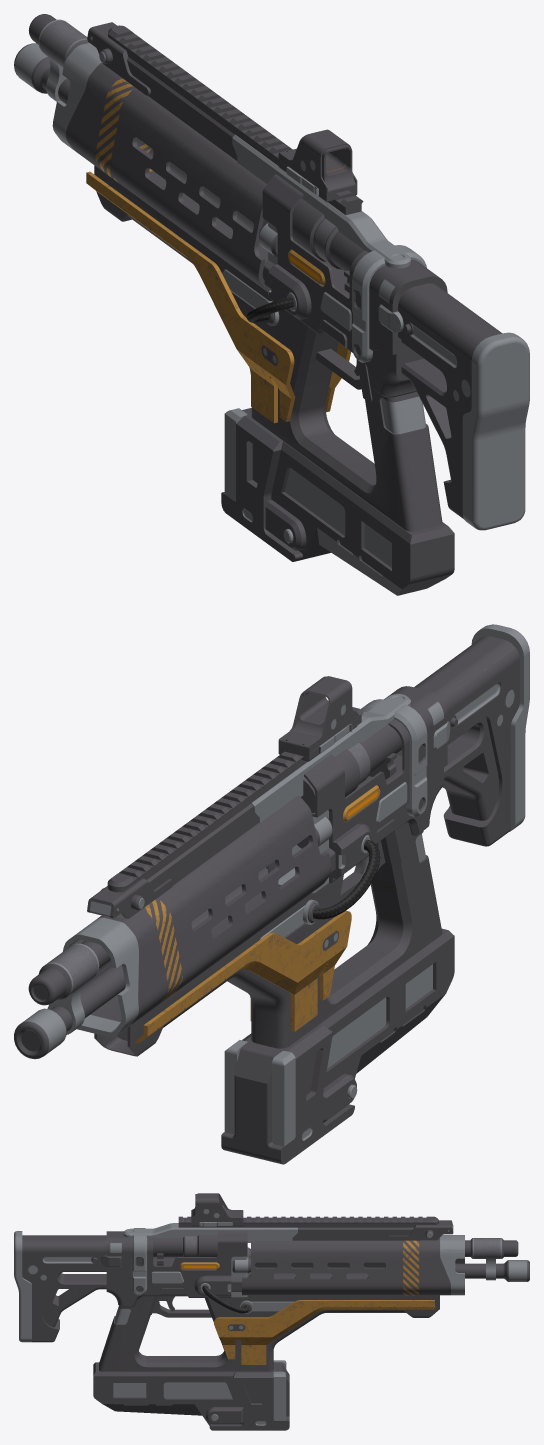
3 views of the same model, one above another, from view 1: azimuth 30°, elevation 25°; view 2: azimuth 150°, elevation 25°; view 3: azimuth 270°, elevation 25° (orthographic). The views are drawn at different scales.
Parts seen in each view (by area): view 1: Solid 29_low_42, Solid 42_low_31, Solid 45_low_33, Solid 40_low_29, Solid 37_low_25, Solid 32_low_45, Solid 13_low_5, Solid 16_low_8, Slice2_low_20, Solid 26_low_17, Slice_low_4, Solid 20_low_13 (+10 smaller); view 2: Solid 42_low_31, Solid 40_low_29, Solid 29_low_42, Solid 45_low_33, Solid 37_low_25, Solid 32_low_45, Solid 41_low_30, Solid 16_low_8, Solid 3_low_19, Slice2_low_20, Solid 13_low_5, Solid 26_low_17 (+12 smaller); view 3: Solid 42_low_31, Solid 40_low_29, Solid 29_low_42, Solid 45_low_33, Solid 37_low_25, Solid 32_low_45, Solid 13_low_5, Slice_low_4, Slice2_low_20, Solid 26_low_17, Solid 41_low_30, Solid 16_low_8 (+14 smaller).
Boxes of the visible parts, box(x1,y1,x2,y2) form: Solid 29_low_42: box(398, 283, 529, 530); Solid 42_low_31: box(66, 63, 271, 292); Solid 45_low_33: box(94, 165, 442, 531); Solid 40_low_29: box(221, 408, 454, 595); Solid 37_low_25: box(262, 174, 447, 397); Solid 32_low_45: box(86, 171, 350, 423); Solid 13_low_5: box(232, 134, 411, 268); Solid 16_low_8: box(278, 129, 357, 194); Slice2_low_20: box(108, 25, 238, 124); Solid 26_low_17: box(292, 198, 364, 271); Slice_low_4: box(127, 56, 237, 160); Solid 20_low_13: box(352, 245, 426, 362); Solid 42_low_31: box(83, 795, 331, 1025); Solid 40_low_29: box(221, 928, 454, 1164); Solid 29_low_42: box(414, 624, 529, 846); Solid 45_low_33: box(94, 822, 442, 1056); Solid 37_low_25: box(266, 686, 447, 893); Solid 32_low_45: box(135, 910, 351, 1043); Solid 41_low_30: box(63, 917, 138, 1037); Solid 16_low_8: box(278, 676, 357, 753); Solid 3_low_19: box(14, 965, 125, 1059); Slice2_low_20: box(107, 798, 240, 892); Solid 13_low_5: box(251, 694, 410, 823); Solid 26_low_17: box(301, 724, 402, 812); Solid 42_low_31: box(242, 1238, 450, 1295); Solid 40_low_29: box(93, 1362, 289, 1430); Solid 29_low_42: box(14, 1231, 106, 1342); Solid 45_low_33: box(99, 1295, 439, 1371); Solid 37_low_25: box(106, 1231, 247, 1307); Solid 32_low_45: box(214, 1300, 435, 1364); Solid 13_low_5: box(123, 1223, 297, 1242); Slice_low_4: box(292, 1227, 420, 1240); Slice2_low_20: box(311, 1216, 438, 1227); Solid 26_low_17: box(153, 1235, 217, 1257); Solid 41_low_30: box(440, 1235, 464, 1295); Solid 16_low_8: box(191, 1193, 243, 1221).
Size of the model in its own units: 0.5008 by 1.7 by 3.51.
2 materials, 2 textured.
